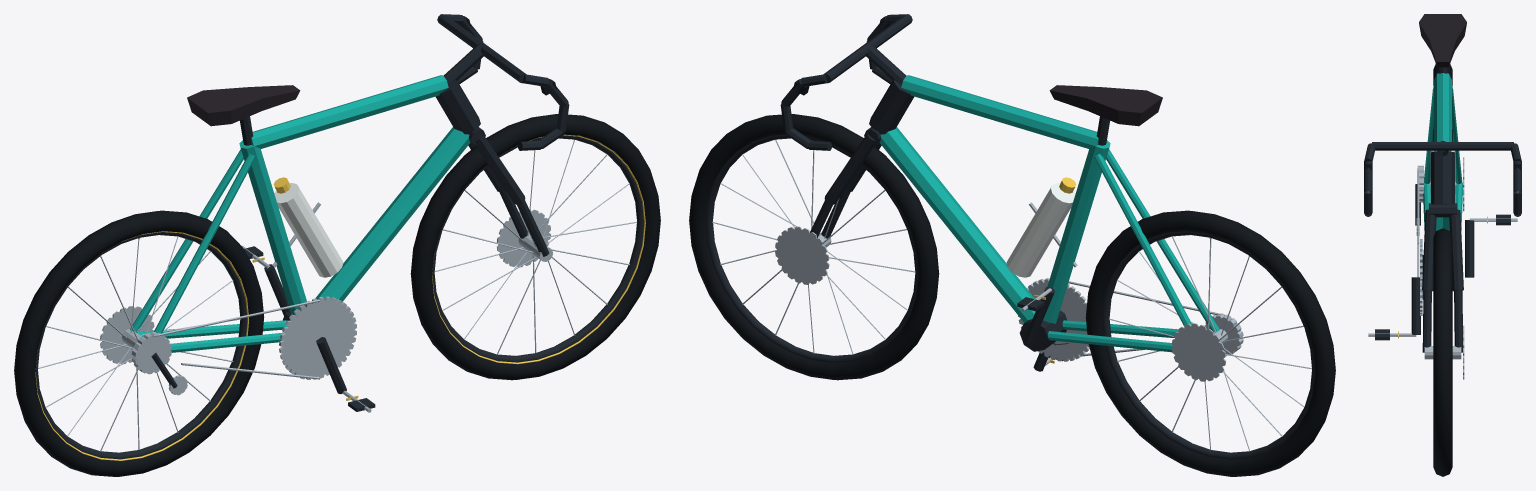
The model's file is bike.glb.
The picture shows the model from 3 angles, left to right: view 1: azimuth 30°, elevation 25°; view 2: azimuth 150°, elevation 25°; view 3: azimuth 270°, elevation 25°; orthographic projection. The views are drawn at different scales.
Visible parts, largest first — view 1: rear_tire, front_tire, frame_down_tube, crank_chainring, frame_top_tube, front_rim, rear_rim, frame_seat_tube, saddle_shell, bottle_body, frame_seat_stay_right, handlebar (+11 smaller); view 2: rear_tire, front_tire, frame_down_tube, frame_top_tube, rear_rim, front_rim, frame_seat_tube, saddle_shell, bottle_body, front_brake_rotor, rear_brake_rotor, crank_chainring (+10 smaller); view 3: front_tire, saddle_shell, handlebar_top, frame_head_tube, handlebar, frame_top_tube, fork_blade_left, fork_blade_right, crank_arm_left, crank_arm_right, fork_lower_right, fork_lower_left (+9 smaller).
Part boxes in pixels (x1=…): rear_tire: x1=14, y1=210, x2=264, y2=476; front_tire: x1=410, y1=114, x2=660, y2=380; frame_down_tube: x1=315, y1=127, x2=470, y2=302; crank_chainring: x1=279, y1=296, x2=356, y2=379; frame_top_tube: x1=251, y1=75, x2=448, y2=148; front_rim: x1=432, y1=135, x2=643, y2=362; rear_rim: x1=35, y1=232, x2=247, y2=459; frame_seat_tube: x1=239, y1=140, x2=306, y2=315; saddle_shell: x1=187, y1=85, x2=300, y2=126; bottle_body: x1=274, y1=183, x2=343, y2=277; frame_seat_stay_right: x1=154, y1=154, x2=255, y2=333; handlebar: x1=440, y1=14, x2=569, y2=150; rear_tire: x1=1085, y1=210, x2=1335, y2=476; front_tire: x1=689, y1=114, x2=939, y2=380; frame_down_tube: x1=879, y1=127, x2=1035, y2=322; frame_top_tube: x1=901, y1=75, x2=1098, y2=148; rear_rim: x1=1102, y1=231, x2=1314, y2=459; front_rim: x1=705, y1=134, x2=917, y2=362; frame_seat_tube: x1=1043, y1=140, x2=1110, y2=323; saddle_shell: x1=1049, y1=85, x2=1162, y2=126; bottle_body: x1=1006, y1=183, x2=1075, y2=277; front_brake_rotor: x1=775, y1=226, x2=829, y2=284; rear_brake_rotor: x1=1171, y1=323, x2=1226, y2=381; crank_chainring: x1=1018, y1=278, x2=1089, y2=361; front_tire: x1=1433, y1=228, x2=1452, y2=476; saddle_shell: x1=1419, y1=14, x2=1466, y2=67; handlebar_top: x1=1372, y1=142, x2=1513, y2=150; frame_head_tube: x1=1431, y1=151, x2=1454, y2=204; handlebar: x1=1364, y1=143, x2=1521, y2=216; frame_top_tube: x1=1434, y1=73, x2=1451, y2=151; fork_blade_left: x1=1449, y1=209, x2=1463, y2=290; fork_blade_right: x1=1422, y1=209, x2=1436, y2=290; crank_arm_left: x1=1465, y1=220, x2=1474, y2=277; crank_arm_right: x1=1411, y1=277, x2=1420, y2=334; fork_lower_right: x1=1422, y1=290, x2=1431, y2=352; fork_lower_left: x1=1454, y1=290, x2=1462, y2=352.
Size of the model in its own units: 1.82 by 0.955 by 0.444.
